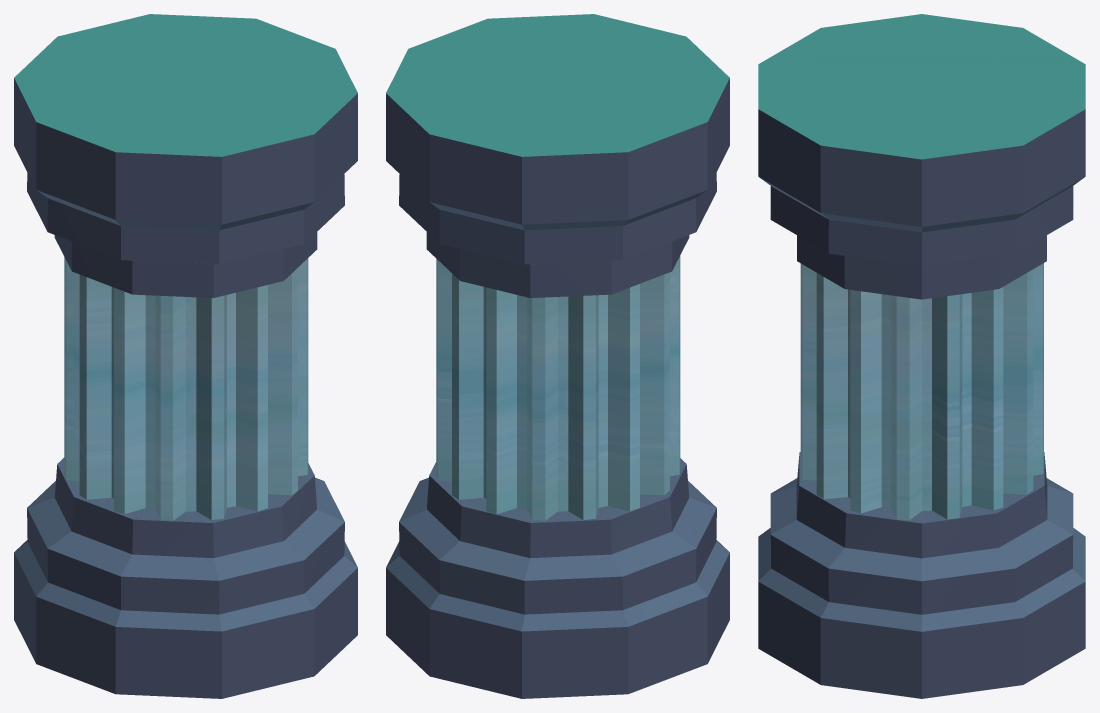
Rendered from torrecita2.gltf.
The picture shows the model from 3 angles, left to right: view 1: azimuth 30°, elevation 25°; view 2: azimuth 150°, elevation 25°; view 3: azimuth 270°, elevation 25°; orthographic projection.
Visible parts, largest first — view 1: pCylinder11_q00558; view 2: pCylinder11_q00558; view 3: pCylinder11_q00558.
Part boxes in pixels (left/top/right/bottom): pCylinder11_q00558: left=14, top=14, right=357, bottom=698; pCylinder11_q00558: left=386, top=14, right=729, bottom=698; pCylinder11_q00558: left=758, top=14, right=1085, bottom=698.
Bounding box in the file's own units: 3.47 × 6 × 3.3.
4 materials, 4 textured.
